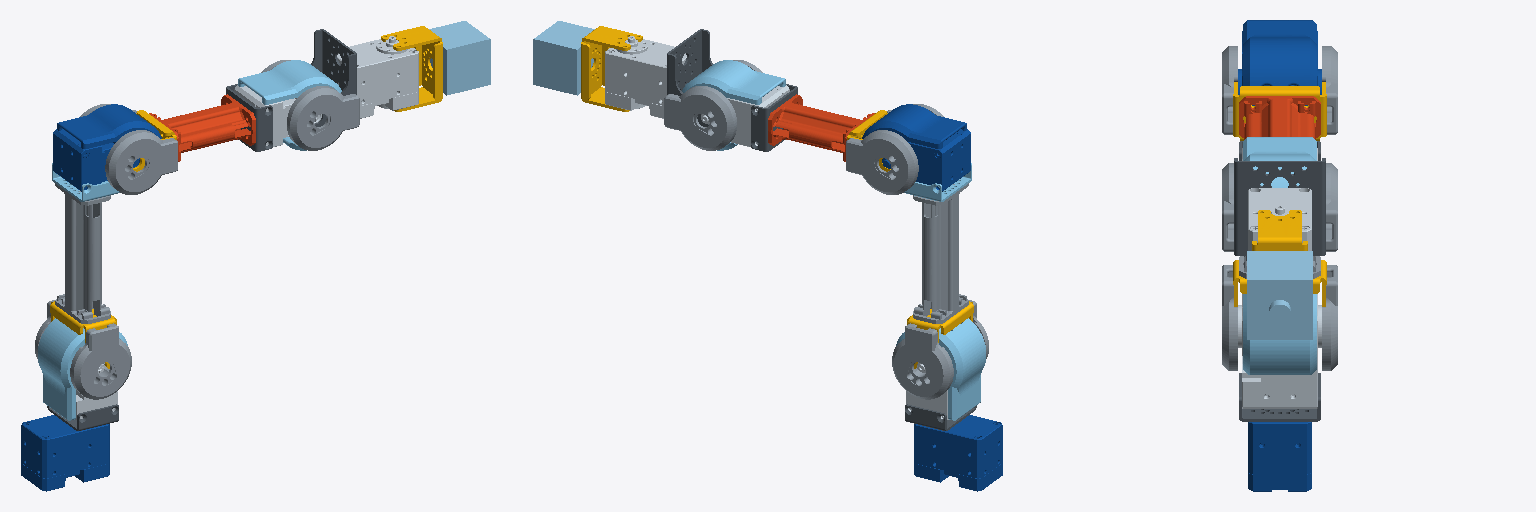
--- What the picture shows (computed from the rendered views, not written in the file) ---
Views: 3 orthographic renders of the robot side by side, from view 1: azimuth 30°, elevation 25°; view 2: azimuth 150°, elevation 25°; view 3: azimuth 270°, elevation 25°.
Robot: onshape — 7 links, 6 joints (5 revolute, 1 fixed); root link world; default pose: all joints at 0.
Visible links, largest first — view 1: shoulder_2, shoulder_3, shoulder_4, shoulder_5, base, shoulder_1; view 2: shoulder_2, shoulder_3, shoulder_4, shoulder_5, base, shoulder_1; view 3: shoulder_3, shoulder_2, shoulder_4, shoulder_5, shoulder_1, base.
Boxes of the visible links, left/top/right/bottom form: shoulder_2: left=35, top=104, right=161, bottom=399; shoulder_3: left=80, top=60, right=341, bottom=194; shoulder_4: left=261, top=29, right=418, bottom=150; shoulder_5: left=381, top=21, right=490, bottom=111; base: left=21, top=415, right=109, bottom=491; shoulder_1: left=38, top=318, right=127, bottom=430; shoulder_2: left=862, top=104, right=988, bottom=399; shoulder_3: left=682, top=60, right=943, bottom=194; shoulder_4: left=605, top=29, right=762, bottom=150; shoulder_5: left=533, top=21, right=642, bottom=111; base: left=914, top=415, right=1002, bottom=491; shoulder_1: left=896, top=318, right=985, bottom=430; shoulder_3: left=1222, top=46, right=1337, bottom=187; shoulder_2: left=1222, top=20, right=1337, bottom=370; shoulder_4: left=1222, top=158, right=1337, bottom=255; shoulder_5: left=1247, top=210, right=1312, bottom=339; shoulder_1: left=1238, top=294, right=1321, bottom=421; base: left=1248, top=422, right=1311, bottom=491.
Bounding box of the posed robot: 0.31 × 0.052 × 0.2398 m (x, y, z).
Meshes: 13 distinct files referenced, 24 mesh visuals loaded (13 binary STL).

The robot description file, URDF, robot "onshape":
<robot name="onshape">
    <link name="world" />
    <joint name="world_to_base_link" type="fixed">
        <parent link="world" />
        <child link="base" />
    </joint>
    <link name="base">
        <visual>
            <origin xyz="-0.000601722 0 0.017" rpy="-1.5708 -0 -1.5708" />
            <geometry>
                <mesh filename="package://openmanx_description/robots/dc12_std.stl" />
            </geometry>
            <material name="dc12_std_material">
                <color rgba="0.105882 0.372549 0.666667 1.0" />
            </material>
        </visual>
        <collision>
            <origin xyz="-0.000601722 0 0.017" rpy="-1.5708 -0 -1.5708" />
            <geometry>
                <mesh filename="package://openmanx_description/robots/dc12_std.stl" />
            </geometry>
            <material name="dc12_std_material">
                <color rgba="0.105882 0.372549 0.666667 1.0" />
            </material>
        </collision>
        
<inertial>
            <origin xyz="-0.0123142 -1.38388e-16 0.0179413" rpy="0 0 0" />
            <mass value="0.0446183" />
            <inertia ixx="1.08971e-05" ixy="1.14387e-07" ixz="-1.1985e-39" iyy="7.07357e-06" iyz="-4.60115e-37" izz="1.23796e-05" />
        </inertial>

    </link>
    <link name="shoulder_1">
        <visual>
            <origin xyz="2.73219e-20 0 -0.0405" rpy="3.14159 -1.94301e-47 1.5708" />
            <geometry>
                <mesh filename="package://openmanx_description/robots/dc12_w_idle.stl" />
            </geometry>
            <material name="dc12_w_idle_material">
                <color rgba="0.811765 0.858824 0.898039 1.0" />
            </material>
        </visual>
        <collision>
            <origin xyz="2.73219e-20 0 -0.0405" rpy="3.14159 -1.94301e-47 1.5708" />
            <geometry>
                <mesh filename="package://openmanx_description/robots/dc12_w_idle.stl" />
            </geometry>
            <material name="dc12_w_idle_material">
                <color rgba="0.811765 0.858824 0.898039 1.0" />
            </material>
        </collision>
        <visual>
            <origin xyz="-1.38507e-17 0 -0.04035" rpy="3.14159 1.94301e-47 -1.5708" />
            <geometry>
                <mesh filename="package://openmanx_description/robots/tb3m-02_xm_cover_rev0.stl" />
            </geometry>
            <material name="tb3m-02_xm_cover_rev0_material">
                <color rgba="0.564706 0.811765 0.945098 1.0" />
            </material>
        </visual>
        <collision>
            <origin xyz="-1.38507e-17 0 -0.04035" rpy="3.14159 1.94301e-47 -1.5708" />
            <geometry>
                <mesh filename="package://openmanx_description/robots/tb3m-02_xm_cover_rev0.stl" />
            </geometry>
            <material name="tb3m-02_xm_cover_rev0_material">
                <color rgba="0.564706 0.811765 0.945098 1.0" />
            </material>
        </collision>
        <visual>
            <origin xyz="0 0 -0.0195" rpy="-1.5708 -0 0" />
            <geometry>
                <mesh filename="package://openmanx_description/robots/fr12_s102.stl" />
            </geometry>
            <material name="fr12_s102_material">
                <color rgba="0.376471 0.415686 0.45098 1.0" />
            </material>
        </visual>
        <collision>
            <origin xyz="0 0 -0.0195" rpy="-1.5708 -0 0" />
            <geometry>
                <mesh filename="package://openmanx_description/robots/fr12_s102.stl" />
            </geometry>
            <material name="fr12_s102_material">
                <color rgba="0.376471 0.415686 0.45098 1.0" />
            </material>
        </collision>
        
<inertial>
            <origin xyz="-0.000512091 0.000487854 -0.0312339" rpy="0 0 0" />
            <mass value="0.0598675" />
            <inertia ixx="2.12042e-05" ixy="-1.49327e-08" ixz="5.8219e-08" iyy="2.13926e-05" iyz="-4.29756e-07" izz="1.2306e-05" />
        </inertial>

    </link>
    <link name="shoulder_2">
        <visual>
            <origin xyz="0 0 0.038" rpy="-1.5708 -0 2.56696e-38" />
            <geometry>
                <mesh filename="package://openmanx_description/robots/tb3m-103_cablecover-h101_rev0.stl" />
            </geometry>
            <material name="tb3m-103_cablecover-h101_rev0_material">
                <color rgba="0.603922 0.647059 0.686275 1.0" />
            </material>
        </visual>
        <collision>
            <origin xyz="0 0 0.038" rpy="-1.5708 -0 2.56696e-38" />
            <geometry>
                <mesh filename="package://openmanx_description/robots/tb3m-103_cablecover-h101_rev0.stl" />
            </geometry>
            <material name="tb3m-103_cablecover-h101_rev0_material">
                <color rgba="0.603922 0.647059 0.686275 1.0" />
            </material>
        </collision>
        <visual>
            <origin xyz="0 0 1.00234e-14" rpy="1.5708 -0 -3.14159" />
            <geometry>
                <mesh filename="package://openmanx_description/robots/tb3m-103_cablecover-h101_rev0.stl" />
            </geometry>
            <material name="tb3m-103_cablecover-h101_rev0_material">
                <color rgba="0.603922 0.647059 0.686275 1.0" />
            </material>
        </visual>
        <collision>
            <origin xyz="0 0 1.00234e-14" rpy="1.5708 -0 -3.14159" />
            <geometry>
                <mesh filename="package://openmanx_description/robots/tb3m-103_cablecover-h101_rev0.stl" />
            </geometry>
            <material name="tb3m-103_cablecover-h101_rev0_material">
                <color rgba="0.603922 0.647059 0.686275 1.0" />
            </material>
        </collision>
        <visual>
            <origin xyz="0 0 0.019" rpy="-1.5708 -1.5708 0" />
            <geometry>
                <mesh filename="package://openmanx_description/robots/fr12_h101.stl" />
            </geometry>
            <material name="fr12_h101_material">
                <color rgba="1 0.756863 0.054902 1.0" />
            </material>
        </visual>
        <collision>
            <origin xyz="0 0 0.019" rpy="-1.5708 -1.5708 0" />
            <geometry>
                <mesh filename="package://openmanx_description/robots/fr12_h101.stl" />
            </geometry>
            <material name="fr12_h101_material">
                <color rgba="1 0.756863 0.054902 1.0" />
            </material>
        </collision>
        <visual>
            <origin xyz="0 0.128 0.019" rpy="2.56696e-38 -1.5708 0" />
            <geometry>
                <mesh filename="package://openmanx_description/robots/fr12_s101.stl" />
            </geometry>
            <material name="fr12_s101_material">
                <color rgba="0.564706 0.811765 0.945098 1.0" />
            </material>
        </visual>
        <collision>
            <origin xyz="0 0.128 0.019" rpy="2.56696e-38 -1.5708 0" />
            <geometry>
                <mesh filename="package://openmanx_description/robots/fr12_s101.stl" />
            </geometry>
            <material name="fr12_s101_material">
                <color rgba="0.564706 0.811765 0.945098 1.0" />
            </material>
        </collision>
        <visual>
            <origin xyz="0.02385 0.128 0.019" rpy="-1.5708 3.85186e-34 -1.5708" />
            <geometry>
                <mesh filename="package://openmanx_description/robots/tb3m-102_servocover01-xm_rev2.stl" />
            </geometry>
            <material name="tb3m-102_servocover01-xm_rev2_material">
                <color rgba="0.105882 0.372549 0.666667 1.0" />
            </material>
        </visual>
        <collision>
            <origin xyz="0.02385 0.128 0.019" rpy="-1.5708 3.85186e-34 -1.5708" />
            <geometry>
                <mesh filename="package://openmanx_description/robots/tb3m-102_servocover01-xm_rev2.stl" />
            </geometry>
            <material name="tb3m-102_servocover01-xm_rev2_material">
                <color rgba="0.105882 0.372549 0.666667 1.0" />
            </material>
        </collision>
        <visual>
            <origin xyz="0.024 0.128 0.019" rpy="1.5708 -3.85186e-34 1.5708" />
            <geometry>
                <mesh filename="package://openmanx_description/robots/dc12_w-idle_alt2.stl" />
            </geometry>
            <material name="dc12_w-idle_alt2_material">
                <color rgba="0.105882 0.372549 0.666667 1.0" />
            </material>
        </visual>
        <collision>
            <origin xyz="0.024 0.128 0.019" rpy="1.5708 -3.85186e-34 1.5708" />
            <geometry>
                <mesh filename="package://openmanx_description/robots/dc12_w-idle_alt2.stl" />
            </geometry>
            <material name="dc12_w-idle_alt2_material">
                <color rgba="0.105882 0.372549 0.666667 1.0" />
            </material>
        </collision>
        <visual>
            <origin xyz="0 0.0285 0.019" rpy="-1.5708 -3.85186e-34 1.5708" />
            <geometry>
                <mesh filename="package://openmanx_description/robots/ila-a01_open.stl" />
            </geometry>
            <material name="ila-a01_open_material">
                <color rgba="0.603922 0.647059 0.686275 1.0" />
            </material>
        </visual>
        <collision>
            <origin xyz="0 0.0285 0.019" rpy="-1.5708 -3.85186e-34 1.5708" />
            <geometry>
                <mesh filename="package://openmanx_description/robots/ila-a01_open.stl" />
            </geometry>
            <material name="ila-a01_open_material">
                <color rgba="0.603922 0.647059 0.686275 1.0" />
            </material>
        </collision>
        
<inertial>
            <origin xyz="0.0101991 0.0977202 0.0186443" rpy="0 0 0" />
            <mass value="0.0904043" />
            <inertia ixx="0.000224309" ixy="-2.95523e-05" ixz="9.03888e-08" iyy="3.74539e-05" iyz="2.18015e-06" izz="0.000220161" />
        </inertial>

    </link>
    <link name="shoulder_3">
        <visual>
            <origin xyz="-2.77556e-17 0 9.95856e-15" rpy="1.5708 -0 3.14159" />
            <geometry>
                <mesh filename="package://openmanx_description/robots/tb3m-103_cablecover-h101_rev0.stl" />
            </geometry>
            <material name="tb3m-103_cablecover-h101_rev0_material">
                <color rgba="0.603922 0.647059 0.686275 1.0" />
            </material>
        </visual>
        <collision>
            <origin xyz="-2.77556e-17 0 9.95856e-15" rpy="1.5708 -0 3.14159" />
            <geometry>
                <mesh filename="package://openmanx_description/robots/tb3m-103_cablecover-h101_rev0.stl" />
            </geometry>
            <material name="tb3m-103_cablecover-h101_rev0_material">
                <color rgba="0.603922 0.647059 0.686275 1.0" />
            </material>
        </collision>
        <visual>
            <origin xyz="-2.77556e-17 0 0.038" rpy="-1.5708 -0 -1.79687e-37" />
            <geometry>
                <mesh filename="package://openmanx_description/robots/tb3m-103_cablecover-h101_rev0.stl" />
            </geometry>
            <material name="tb3m-103_cablecover-h101_rev0_material">
                <color rgba="0.603922 0.647059 0.686275 1.0" />
            </material>
        </visual>
        <collision>
            <origin xyz="-2.77556e-17 0 0.038" rpy="-1.5708 -0 -1.79687e-37" />
            <geometry>
                <mesh filename="package://openmanx_description/robots/tb3m-103_cablecover-h101_rev0.stl" />
            </geometry>
            <material name="tb3m-103_cablecover-h101_rev0_material">
                <color rgba="0.603922 0.647059 0.686275 1.0" />
            </material>
        </collision>
        <visual>
            <origin xyz="2.77556e-17 0.12385 0.019" rpy="-1.5708 -0 -1.79687e-37" />
            <geometry>
                <mesh filename="package://openmanx_description/robots/tb3m-02_xm_cover_rev0.stl" />
            </geometry>
            <material name="tb3m-02_xm_cover_rev0_material">
                <color rgba="0.564706 0.811765 0.945098 1.0" />
            </material>
        </visual>
        <collision>
            <origin xyz="2.77556e-17 0.12385 0.019" rpy="-1.5708 -0 -1.79687e-37" />
            <geometry>
                <mesh filename="package://openmanx_description/robots/tb3m-02_xm_cover_rev0.stl" />
            </geometry>
            <material name="tb3m-02_xm_cover_rev0_material">
                <color rgba="0.564706 0.811765 0.945098 1.0" />
            </material>
        </collision>
        <visual>
            <origin xyz="2.77556e-17 0.124 0.019" rpy="1.5708 -0 3.14159" />
            <geometry>
                <mesh filename="package://openmanx_description/robots/dc12_w_idle.stl" />
            </geometry>
            <material name="dc12_w_idle_material">
                <color rgba="0.811765 0.858824 0.898039 1.0" />
            </material>
        </visual>
        <collision>
            <origin xyz="2.77556e-17 0.124 0.019" rpy="1.5708 -0 3.14159" />
            <geometry>
                <mesh filename="package://openmanx_description/robots/dc12_w_idle.stl" />
            </geometry>
            <material name="dc12_w_idle_material">
                <color rgba="0.811765 0.858824 0.898039 1.0" />
            </material>
        </collision>
        <visual>
            <origin xyz="0 0.103 0.019" rpy="1.79687e-37 1.5708 0" />
            <geometry>
                <mesh filename="package://openmanx_description/robots/fr12_s102.stl" />
            </geometry>
            <material name="fr12_s102_material">
                <color rgba="0.376471 0.415686 0.45098 1.0" />
            </material>
        </visual>
        <collision>
            <origin xyz="0 0.103 0.019" rpy="1.79687e-37 1.5708 0" />
            <geometry>
                <mesh filename="package://openmanx_description/robots/fr12_s102.stl" />
            </geometry>
            <material name="fr12_s102_material">
                <color rgba="0.376471 0.415686 0.45098 1.0" />
            </material>
        </collision>
        <visual>
            <origin xyz="0 0 0.019" rpy="-1.5708 -1.5708 0" />
            <geometry>
                <mesh filename="package://openmanx_description/robots/fr12_h101.stl" />
            </geometry>
            <material name="fr12_h101_material">
                <color rgba="1 0.756863 0.054902 1.0" />
            </material>
        </visual>
        <collision>
            <origin xyz="0 0 0.019" rpy="-1.5708 -1.5708 0" />
            <geometry>
                <mesh filename="package://openmanx_description/robots/fr12_h101.stl" />
            </geometry>
            <material name="fr12_h101_material">
                <color rgba="1 0.756863 0.054902 1.0" />
            </material>
        </collision>
        <visual>
            <origin xyz="5.55112e-17 0.0285 0.019" rpy="-1.5708 -0 1.5708" />
            <geometry>
                <mesh filename="package://openmanx_description/robots/ila-a02_open.stl" />
            </geometry>
            <material name="ila-a02_open_material">
                <color rgba="0.866667 0.321569 0.156863 1.0" />
            </material>
        </visual>
        <collision>
            <origin xyz="5.55112e-17 0.0285 0.019" rpy="-1.5708 -0 1.5708" />
            <geometry>
                <mesh filename="package://openmanx_description/robots/ila-a02_open.stl" />
            </geometry>
            <material name="ila-a02_open_material">
                <color rgba="0.866667 0.321569 0.156863 1.0" />
            </material>
        </collision>
        
<inertial>
            <origin xyz="-0.000337765 0.0884894 0.018646" rpy="0 0 0" />
            <mass value="0.086612" />
            <inertia ixx="0.000183403" ixy="1.95663e-06" ixz="2.46169e-09" iyy="2.39543e-05" iyz="7.46348e-07" izz="0.000176235" />
        </inertial>

    </link>
    <link name="shoulder_4">
        <visual>
            <origin xyz="-0.006 0.06325 0.019" rpy="-1.5708 -1.5708 0" />
            <geometry>
                <mesh filename="package://openmanx_description/robots/dc12_w_idle.stl" />
            </geometry>
            <material name="dc12_w_idle_material">
                <color rgba="0.811765 0.858824 0.898039 1.0" />
            </material>
        </visual>
        <collision>
            <origin xyz="-0.006 0.06325 0.019" rpy="-1.5708 -1.5708 0" />
            <geometry>
                <mesh filename="package://openmanx_description/robots/dc12_w_idle.stl" />
            </geometry>
            <material name="dc12_w_idle_material">
                <color rgba="0.811765 0.858824 0.898039 1.0" />
            </material>
        </collision>
        <visual>
            <origin xyz="-5.55112e-17 0 0.038" rpy="-1.5708 -2.46519e-32 -2.08167e-14" />
            <geometry>
                <mesh filename="package://openmanx_description/robots/tb3m-103_cablecover-h101_rev0.stl" />
            </geometry>
            <material name="tb3m-103_cablecover-h101_rev0_material">
                <color rgba="0.603922 0.647059 0.686275 1.0" />
            </material>
        </visual>
        <collision>
            <origin xyz="-5.55112e-17 0 0.038" rpy="-1.5708 -2.46519e-32 -2.08167e-14" />
            <geometry>
                <mesh filename="package://openmanx_description/robots/tb3m-103_cablecover-h101_rev0.stl" />
            </geometry>
            <material name="tb3m-103_cablecover-h101_rev0_material">
                <color rgba="0.603922 0.647059 0.686275 1.0" />
            </material>
        </collision>
        <visual>
            <origin xyz="0 0 9.92625e-15" rpy="1.5708 1.2326e-32 -3.14159" />
            <geometry>
                <mesh filename="package://openmanx_description/robots/tb3m-103_cablecover-h101_rev0.stl" />
            </geometry>
            <material name="tb3m-103_cablecover-h101_rev0_material">
                <color rgba="0.603922 0.647059 0.686275 1.0" />
            </material>
        </visual>
        <collision>
            <origin xyz="0 0 9.92625e-15" rpy="1.5708 1.2326e-32 -3.14159" />
            <geometry>
                <mesh filename="package://openmanx_description/robots/tb3m-103_cablecover-h101_rev0.stl" />
            </geometry>
            <material name="tb3m-103_cablecover-h101_rev0_material">
                <color rgba="0.603922 0.647059 0.686275 1.0" />
            </material>
        </collision>
        <visual>
            <origin xyz="0 0 0.019" rpy="-1.5708 -1.5708 0" />
            <geometry>
                <mesh filename="package://openmanx_description/robots/custom_frame_1.stl" />
            </geometry>
            <material name="custom_frame_1_material">
                <color rgba="0.376471 0.415686 0.45098 1.0" />
            </material>
        </visual>
        <collision>
            <origin xyz="0 0 0.019" rpy="-1.5708 -1.5708 0" />
            <geometry>
                <mesh filename="package://openmanx_description/robots/custom_frame_1.stl" />
            </geometry>
            <material name="custom_frame_1_material">
                <color rgba="0.376471 0.415686 0.45098 1.0" />
            </material>
        </collision>
        
<inertial>
            <origin xyz="-0.0057215 0.041307 0.019" rpy="0 0 0" />
            <mass value="0.0596282" />
            <inertia ixx="3.77374e-05" ixy="2.36357e-06" ixz="1.47684e-07" iyy="2.05819e-05" iyz="1.2462e-13" izz="3.70475e-05" />
        </inertial>

    </link>
    <link name="shoulder_5">
        <visual>
            <origin xyz="-3.75834e-17 0.0435 0.034" rpy="3.14159 -0 0" />
            <geometry>
                <mesh filename="package://openmanx_description/robots/camera.stl" />
            </geometry>
            <material name="camera_material">
                <color rgba="0.615686 0.811765 0.929412 1.0" />
            </material>
        </visual>
        <collision>
            <origin xyz="-3.75834e-17 0.0435 0.034" rpy="3.14159 -0 0" />
            <geometry>
                <mesh filename="package://openmanx_description/robots/camera.stl" />
            </geometry>
            <material name="camera_material">
                <color rgba="0.615686 0.811765 0.929412 1.0" />
            </material>
        </collision>
        <visual>
            <origin xyz="0 0 0.019" rpy="-1.5708 -1.5708 0" />
            <geometry>
                <mesh filename="package://openmanx_description/robots/fr12_h101.stl" />
            </geometry>
            <material name="fr12_h101_material">
                <color rgba="1 0.756863 0.054902 1.0" />
            </material>
        </visual>
        <collision>
            <origin xyz="0 0 0.019" rpy="-1.5708 -1.5708 0" />
            <geometry>
                <mesh filename="package://openmanx_description/robots/fr12_h101.stl" />
            </geometry>
            <material name="fr12_h101_material">
                <color rgba="1 0.756863 0.054902 1.0" />
            </material>
        </collision>
        
<inertial>
            <origin xyz="-9.4374e-17 0.0405292 0.019" rpy="0 0 0" />
            <mass value="0.0334233" />
            <inertia ixx="8.02124e-06" ixy="-3.72296e-20" ixz="7.16479e-33" iyy="4.86122e-06" iyz="4.04231e-19" izz="8.10392e-06" />
        </inertial>

    </link>
    <joint name="joint5" type="revolute">
        <origin xyz="-0.025 0.06325 0.019" rpy="5.67023e-15 1.5708 0" />
        <parent link="shoulder_4" />
        <child link="shoulder_5" />
        <axis xyz="0 0 1" />
        <limit effort="1" velocity="20" lower="-1.91986" upper="1.91986" />
        <joint_properties friction="0.0" />
    </joint>
    <joint name="joint4" type="revolute">
        <origin xyz="2.77556e-17 0.124 1.008e-14" rpy="5.79028e-19 1.06685e-16 1.07771e-14" />
        <parent link="shoulder_3" />
        <child link="shoulder_4" />
        <axis xyz="0 0 1" />
        <limit effort="1" velocity="20" lower="-1.5708" upper="1.5708" />
        <joint_properties friction="0.0" />
    </joint>
    <joint name="joint3" type="revolute">
        <origin xyz="0.024 0.128 -3.06922e-17" rpy="4.48778e-31 -3.46945e-18 -1.5708" />
        <parent link="shoulder_2" />
        <child link="shoulder_3" />
        <axis xyz="0 0 1" />
        <limit effort="1" velocity="20" lower="-1.5708" upper="1.5708" />
        <joint_properties friction="0.0" />
    </joint>
    <joint name="joint2" type="revolute">
        <origin xyz="-0.019 0 -0.0405" rpy="-1.5708 -2.62246e-19 -1.5708" />
        <parent link="shoulder_1" />
        <child link="shoulder_2" />
        <axis xyz="0 0 1" />
        <limit effort="1" velocity="20" lower="-1.5708" upper="1.5708" />
        <joint_properties friction="0.0" />
    </joint>
    <joint name="joint1" type="revolute">
        <origin xyz="-0.000601722 -2.53703e-20 0.036" rpy="-3.14159 -4.33681e-19 -1.5708" />
        <parent link="base" />
        <child link="shoulder_1" />
        <axis xyz="0 0 1" />
        <limit effort="1" velocity="20" lower="-3.14159" upper="3.14159" />
        <joint_properties friction="0.0" />
    </joint>
    
<transmission name="trans_joint5">
        <type>transmission_interface/SimpleTransmission</type>
        <joint name="joint5">
            <hardwareInterface>hardware_interface/PositionJointInterface</hardwareInterface>
        </joint>
        <actuator name="joint5_motor">
            <hardwareInterface>hardware_interface/PositionJointInterface</hardwareInterface>
            <mechanicalReduction>1</mechanicalReduction>
        </actuator>
    </transmission>
    <transmission name="trans_joint4">
        <type>transmission_interface/SimpleTransmission</type>
        <joint name="joint4">
            <hardwareInterface>hardware_interface/PositionJointInterface</hardwareInterface>
        </joint>
        <actuator name="joint4_motor">
            <hardwareInterface>hardware_interface/PositionJointInterface</hardwareInterface>
            <mechanicalReduction>1</mechanicalReduction>
        </actuator>
    </transmission>
    <transmission name="trans_joint3">
        <type>transmission_interface/SimpleTransmission</type>
        <joint name="joint3">
            <hardwareInterface>hardware_interface/PositionJointInterface</hardwareInterface>
        </joint>
        <actuator name="joint3_motor">
            <hardwareInterface>hardware_interface/PositionJointInterface</hardwareInterface>
            <mechanicalReduction>1</mechanicalReduction>
        </actuator>
    </transmission>
    <transmission name="trans_joint2">
        <type>transmission_interface/SimpleTransmission</type>
        <joint name="joint2">
            <hardwareInterface>hardware_interface/PositionJointInterface</hardwareInterface>
        </joint>
        <actuator name="joint2_motor">
            <hardwareInterface>hardware_interface/PositionJointInterface</hardwareInterface>
            <mechanicalReduction>1</mechanicalReduction>
        </actuator>
    </transmission>
    <transmission name="trans_joint1">
        <type>transmission_interface/SimpleTransmission</type>
        <joint name="joint1">
            <hardwareInterface>hardware_interface/PositionJointInterface</hardwareInterface>
        </joint>
        <actuator name="joint1_motor">
            <hardwareInterface>hardware_interface/PositionJointInterface</hardwareInterface>
            <mechanicalReduction>1</mechanicalReduction>
        </actuator>
    </transmission>
    <gazebo>
        <plugin name="gazebo_ros_control" filename="libgazebo_ros_control.so">
            <robotNamespace>/</robotNamespace>
        </plugin>
    </gazebo>
</robot>
